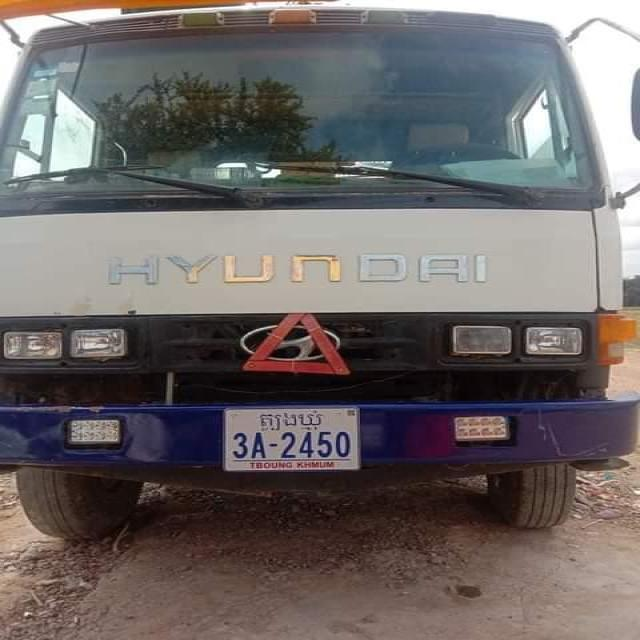Tboung_Khmum: (259, 410, 325, 432)
